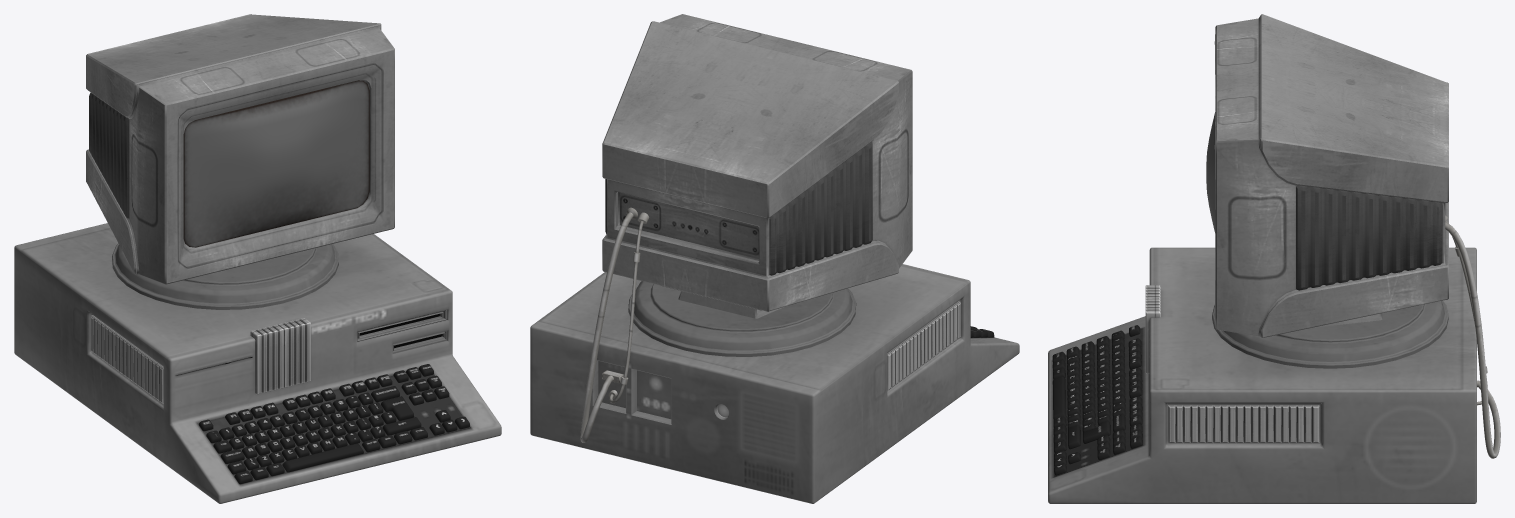
Rendered from retrofuturistic_computer.glb.
The picture shows the model from 3 angles, left to right: view 1: azimuth 30°, elevation 25°; view 2: azimuth 150°, elevation 25°; view 3: azimuth 270°, elevation 25°; orthographic projection. The views are drawn at different scales.
Parts seen in each view (by area): view 1: Plane, Cube, Cube.002, Plane.024, Circle, Plane.001, Cube.001, Plane.002; view 2: Cube, Plane, Circle, Cube.001, Plane.002, cable, cable.001; view 3: Plane, Cube, Cube.001, Plane.024, Circle, Plane.002, cable, Plane.001, Cube.002.
Boxes of the visible parts, x1,y1,x2,y2 form: Plane: [14, 223, 501, 503]; Cube: [86, 14, 394, 284]; Cube.002: [183, 80, 369, 247]; Plane.024: [198, 364, 469, 484]; Circle: [112, 243, 338, 309]; Plane.001: [250, 318, 310, 394]; Cube.001: [89, 92, 129, 218]; Plane.002: [91, 315, 163, 403]; Cube: [602, 14, 912, 318]; Plane: [530, 264, 1019, 503]; Circle: [628, 281, 856, 356]; Cube.001: [605, 142, 872, 275]; Plane.002: [887, 301, 960, 390]; cable: [580, 207, 637, 442]; cable.001: [608, 212, 649, 403]; Plane: [1048, 247, 1476, 503]; Cube: [1214, 14, 1448, 337]; Cube.001: [1296, 185, 1442, 290]; Plane.024: [1052, 325, 1142, 475]; Circle: [1212, 300, 1448, 368]; Plane.002: [1168, 405, 1319, 443]; cable: [1445, 222, 1500, 458]; Plane.001: [1145, 285, 1160, 373]; Cube.002: [1206, 112, 1215, 234].
Bounding box in the file's own units: 1.76 × 2.03 × 2.34.
Materials: 1 (1 with a texture image).
